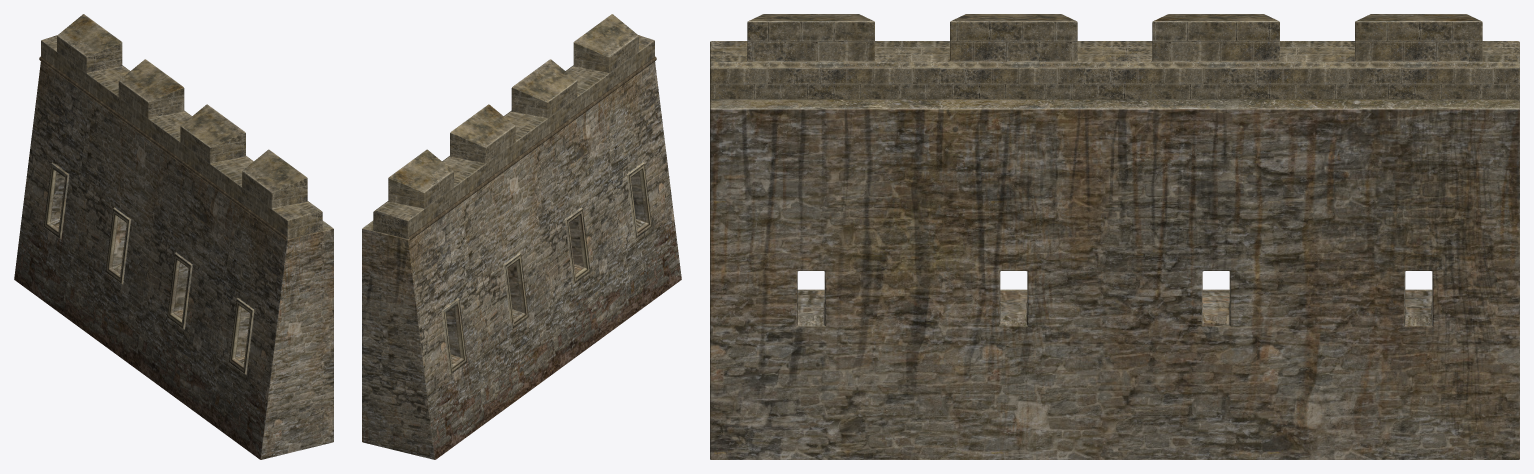
Rendered from modular_fort_01_wall_thin_straight_02.gltf.
The picture shows the model from 3 angles, left to right: view 1: azimuth 30°, elevation 25°; view 2: azimuth 150°, elevation 25°; view 3: azimuth 270°, elevation 25°; orthographic projection. The views are drawn at different scales.
Parts seen in each view (by area): view 1: modular_fort_01_wall_thin_straight_02__x; view 2: modular_fort_01_wall_thin_straight_02__x; view 3: modular_fort_01_wall_thin_straight_02__x.
Part boxes in pixels (x1,y1,x2,y2): modular_fort_01_wall_thin_straight_02__x: (14, 14, 333, 459); modular_fort_01_wall_thin_straight_02__x: (362, 14, 681, 459); modular_fort_01_wall_thin_straight_02__x: (710, 14, 1519, 459).
Bounding box in the file's own units: 2.55 × 8.61 × 14.82.
Materials: 2 (2 with a texture image).
